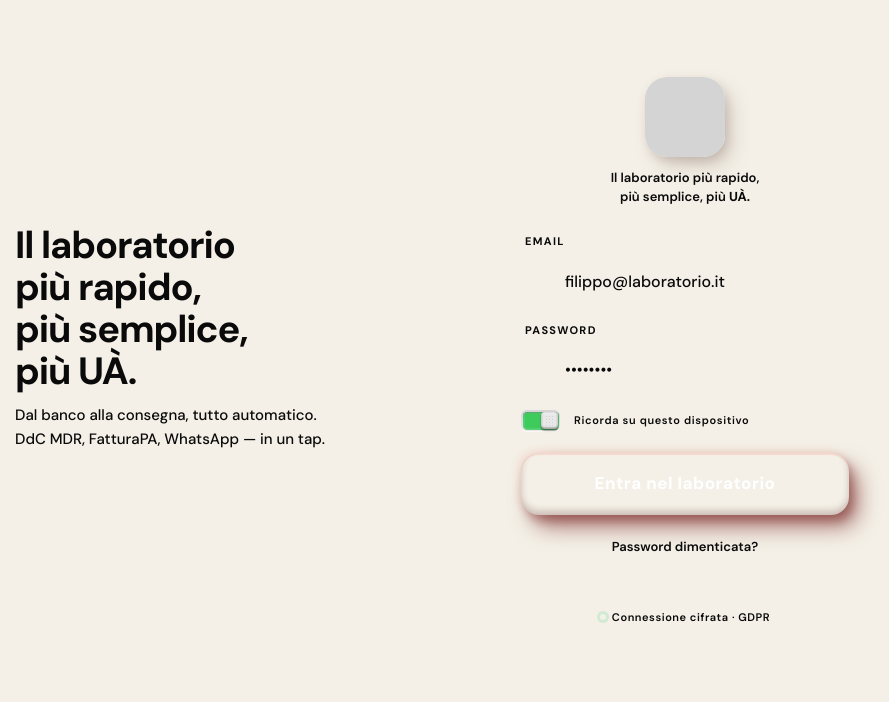
it: A3 — guard prefill passkey (login-form) › non sovrascrive l'email già digitata dall'utente quando la promise risolve dopo
Type "mia@lab.it" into the field named "Indirizzo email" at point(707, 282), box [565, 256, 849, 308]
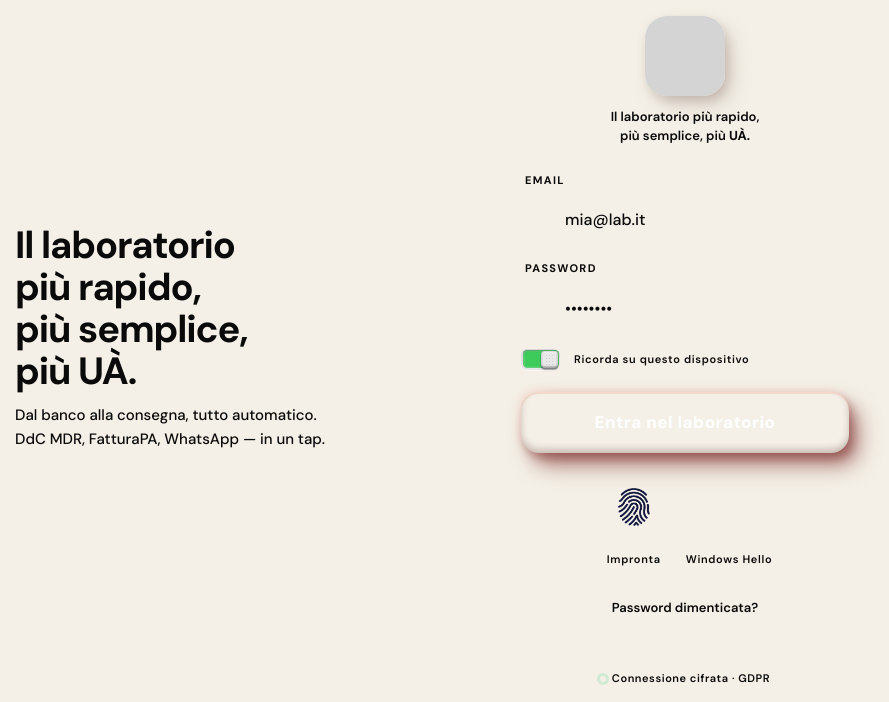
Result: the element named "Accesso biometrico" is shown at [598, 471, 772, 568]
